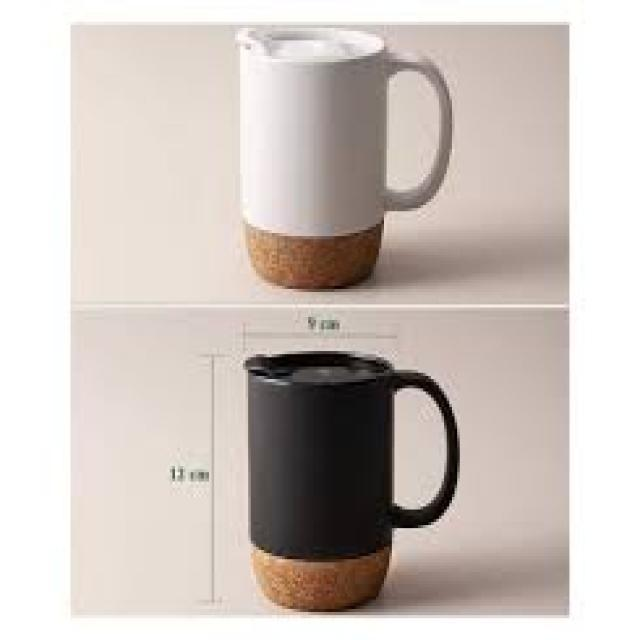taza: (224, 340, 471, 610), (222, 23, 461, 296)
